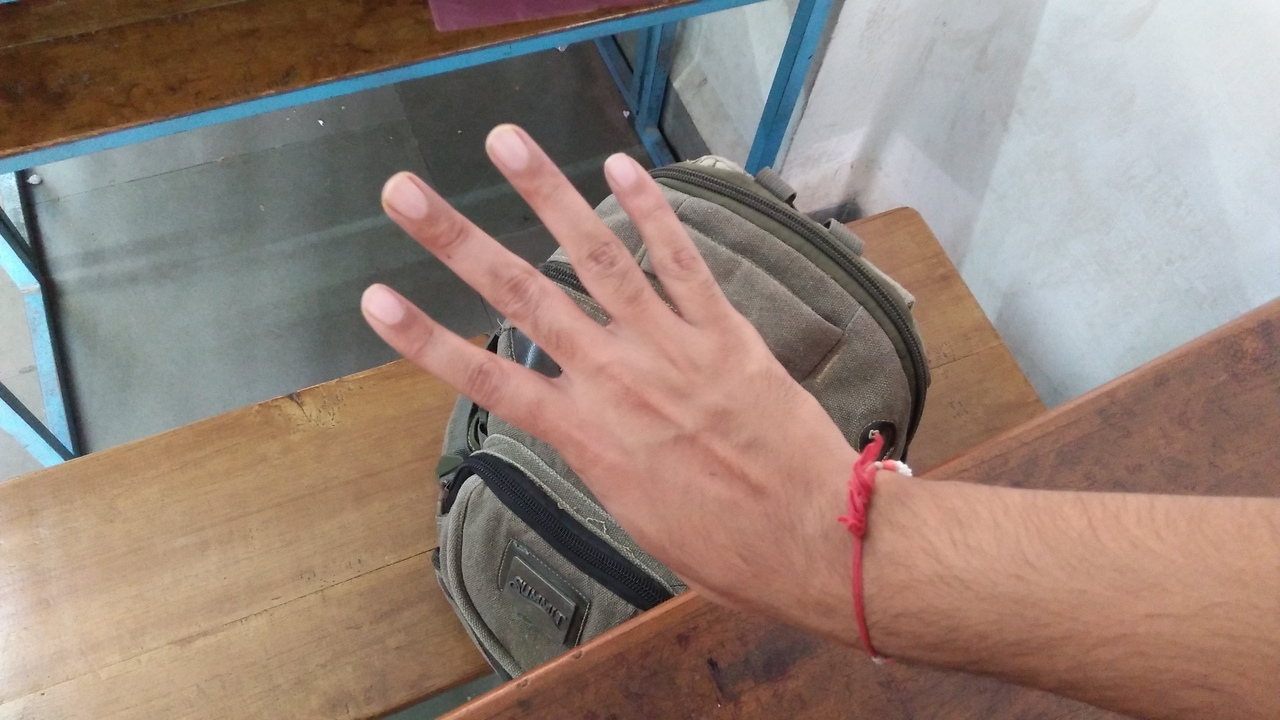fingertip: (476, 118, 550, 178), (366, 164, 440, 222), (588, 142, 662, 200), (346, 276, 416, 336)
